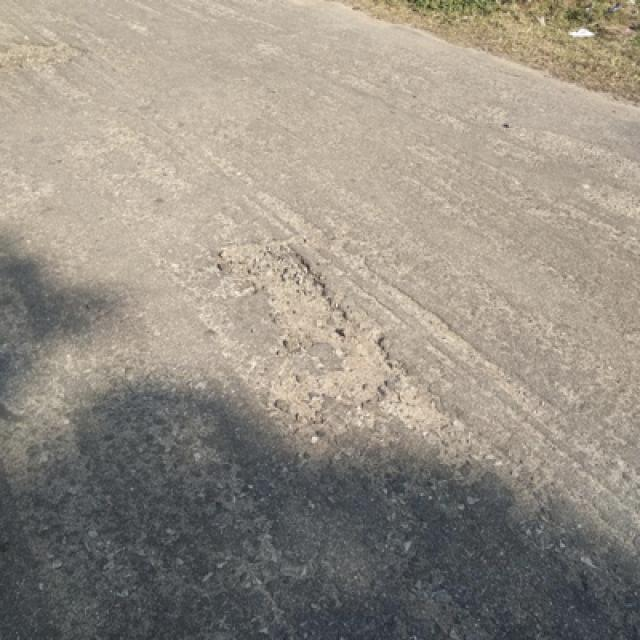Pothole: (216, 238, 406, 421)
